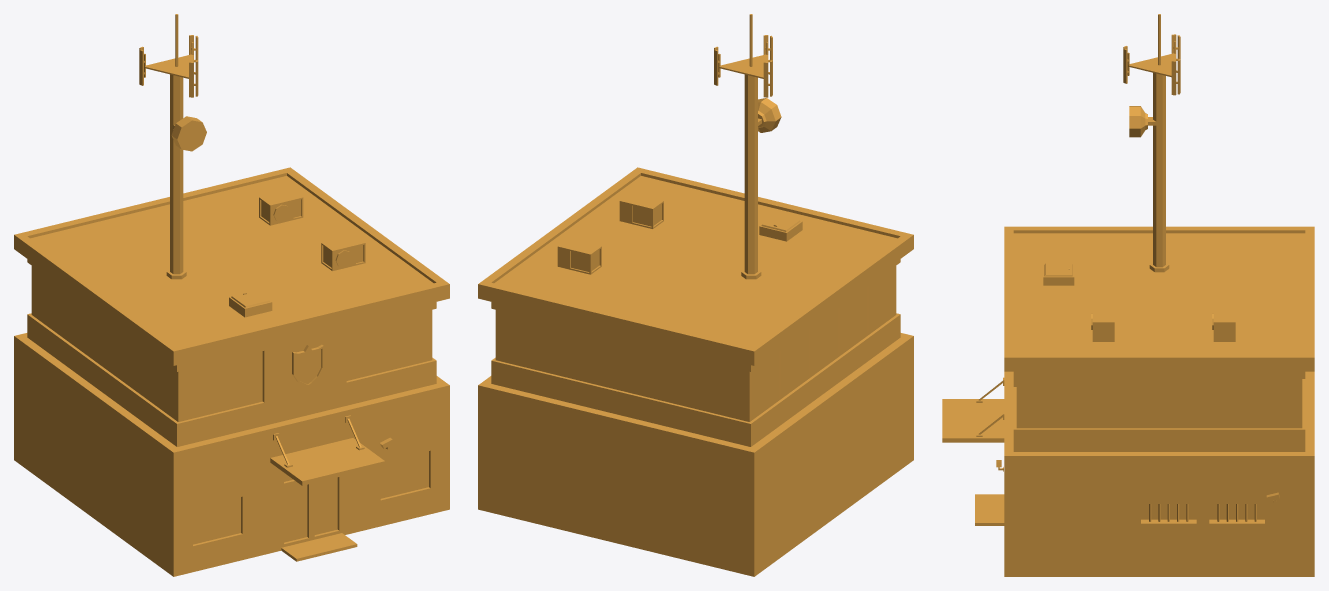
The model's file is building-policestation.fbx.
The picture shows the model from 3 angles, left to right: view 1: azimuth 30°, elevation 25°; view 2: azimuth 150°, elevation 25°; view 3: azimuth 270°, elevation 25°; orthographic projection. The views are drawn at different scales.
Parts seen in each view (by area): view 1: building-policestation; view 2: building-policestation; view 3: building-policestation.
Part boxes in pixels (x1=…): building-policestation: x1=14, y1=14, x2=449, y2=576; building-policestation: x1=478, y1=14, x2=913, y2=576; building-policestation: x1=942, y1=14, x2=1314, y2=576.
Bounding box in the file's own units: 10.25 × 16.74 × 12.
